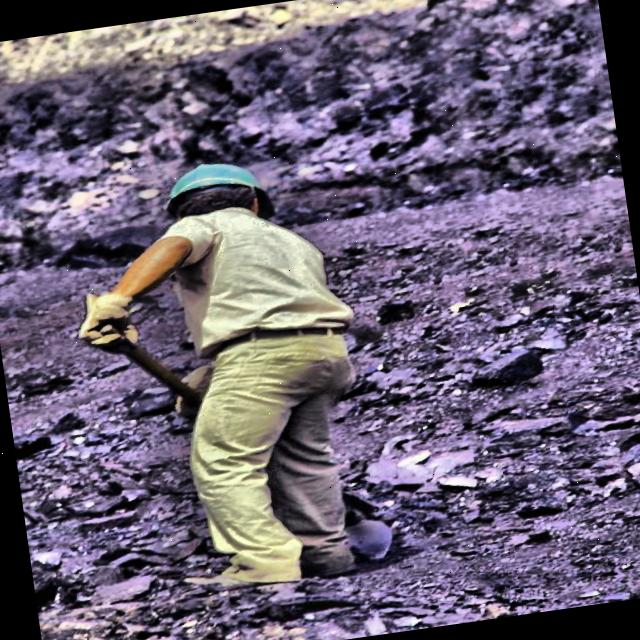helmet: (156, 154, 270, 243)
